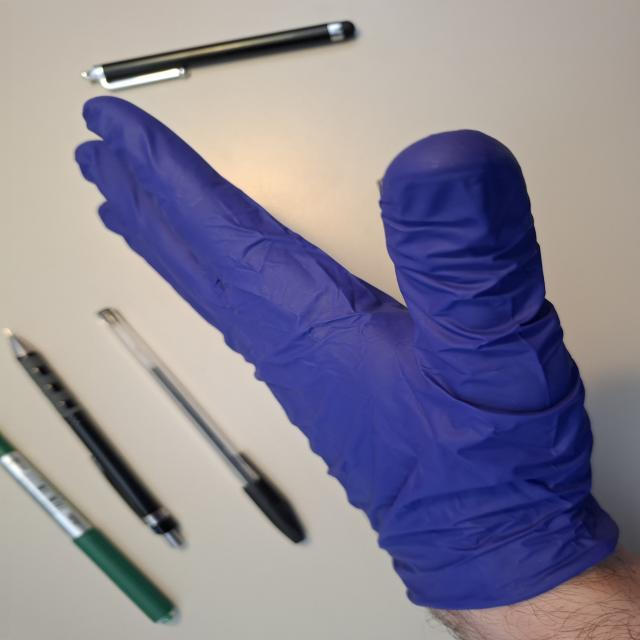glove_on: (68, 92, 621, 620)
